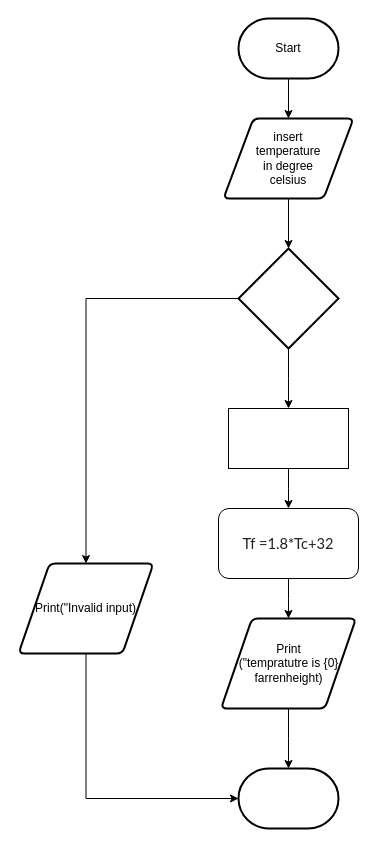
Image size: 376x846. Some labels were removed from this diagram. The box of each missing label's shape, as (x1, y1, x2, y2) in pixels:
convert string to integer: (228, 408, 348, 468)
Stop: (237, 767, 339, 829)
Try: (237, 247, 339, 349)
